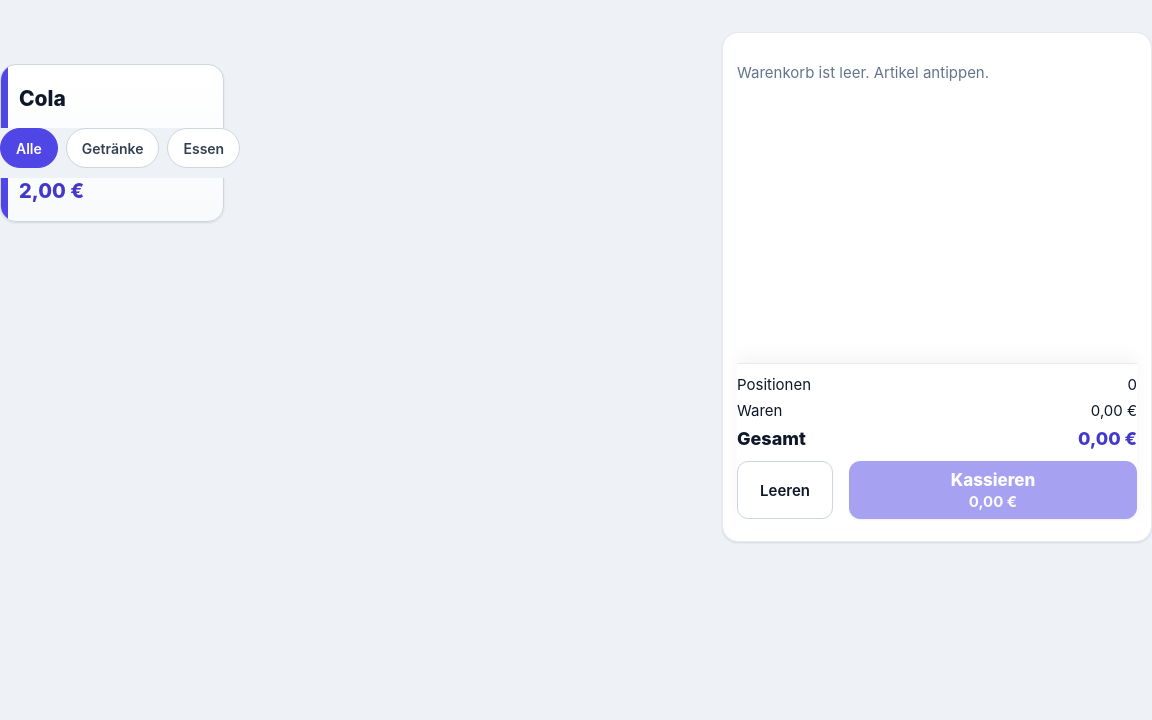
Test: Verkauf Component › sollte die Pfandrückgabe im Checkout-Modal korrekt durchlaufen
The image size is (1152, 720).
Click the text "Cola".
click(42, 98)  # box [19,86,66,111]
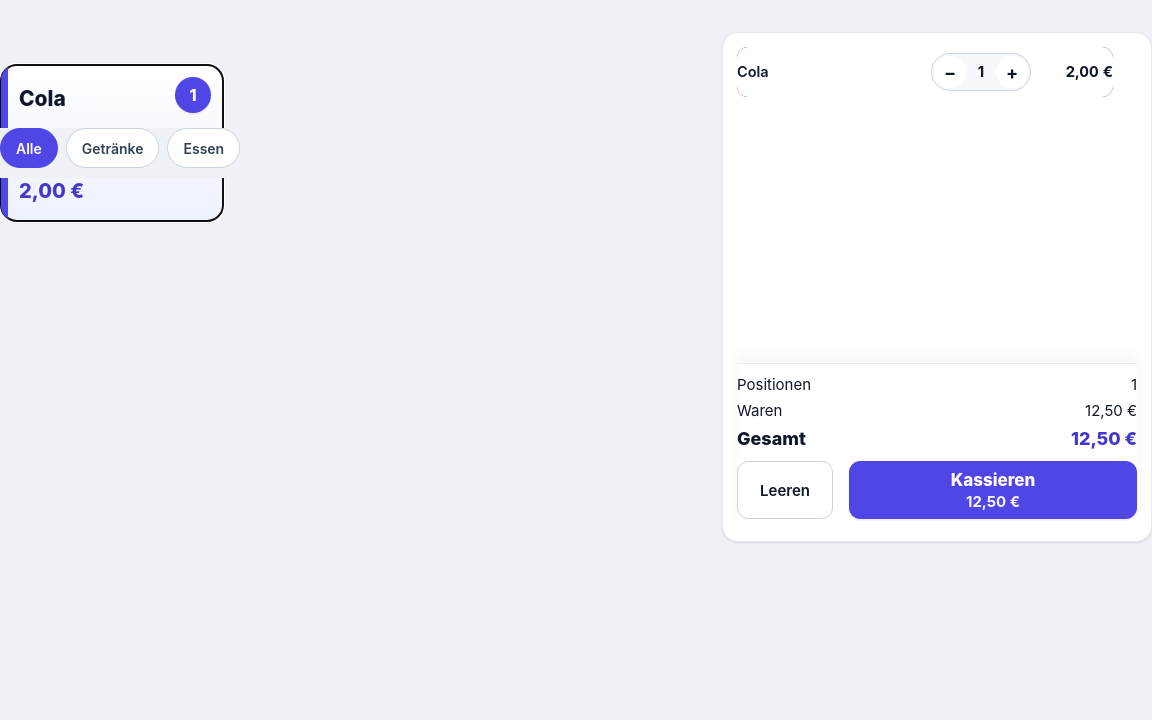
Click the button "Kassieren 12,50 €".
click(993, 490)  # box [849,461,1137,519]
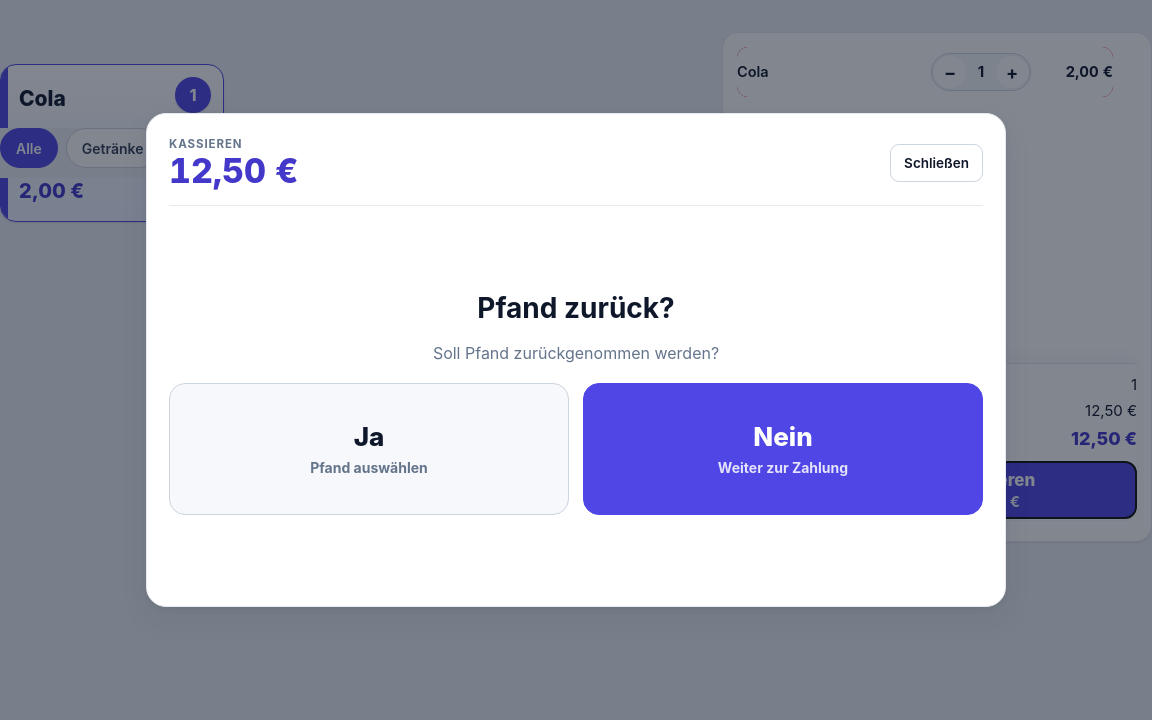
Click the button "Ja Pfand auswählen".
click(369, 449)  # box [169,383,569,515]
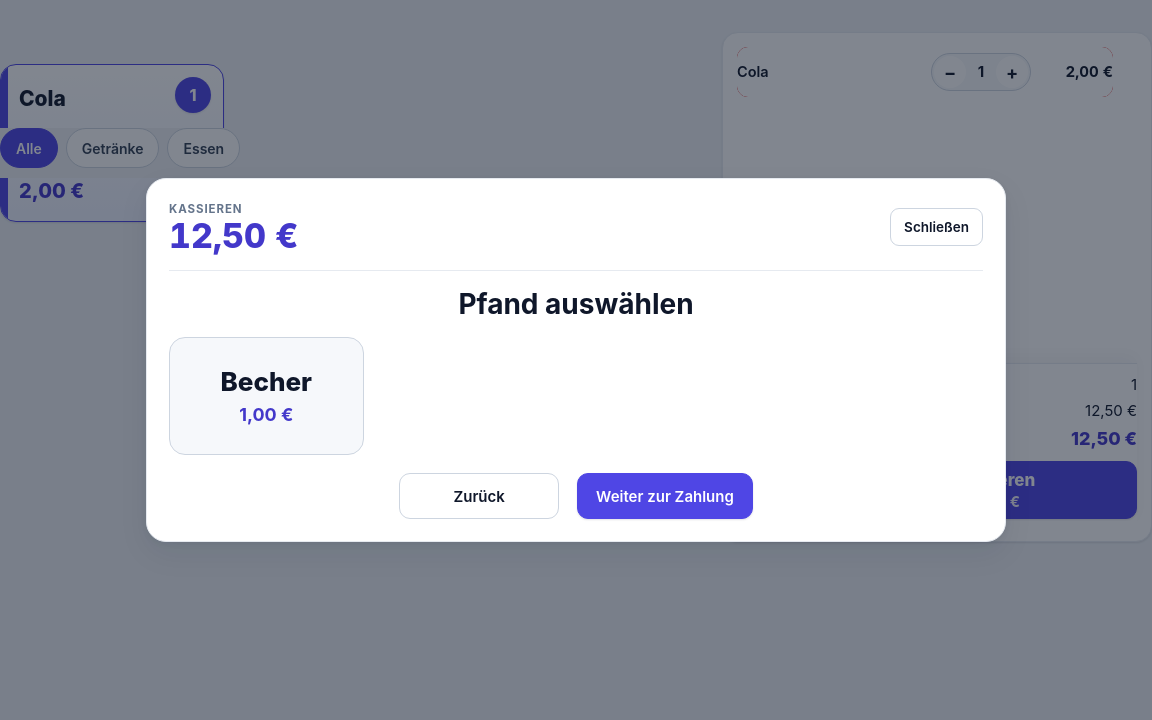
Click the button "Becher 1,00 €".
click(266, 396)  # box [169,337,364,455]
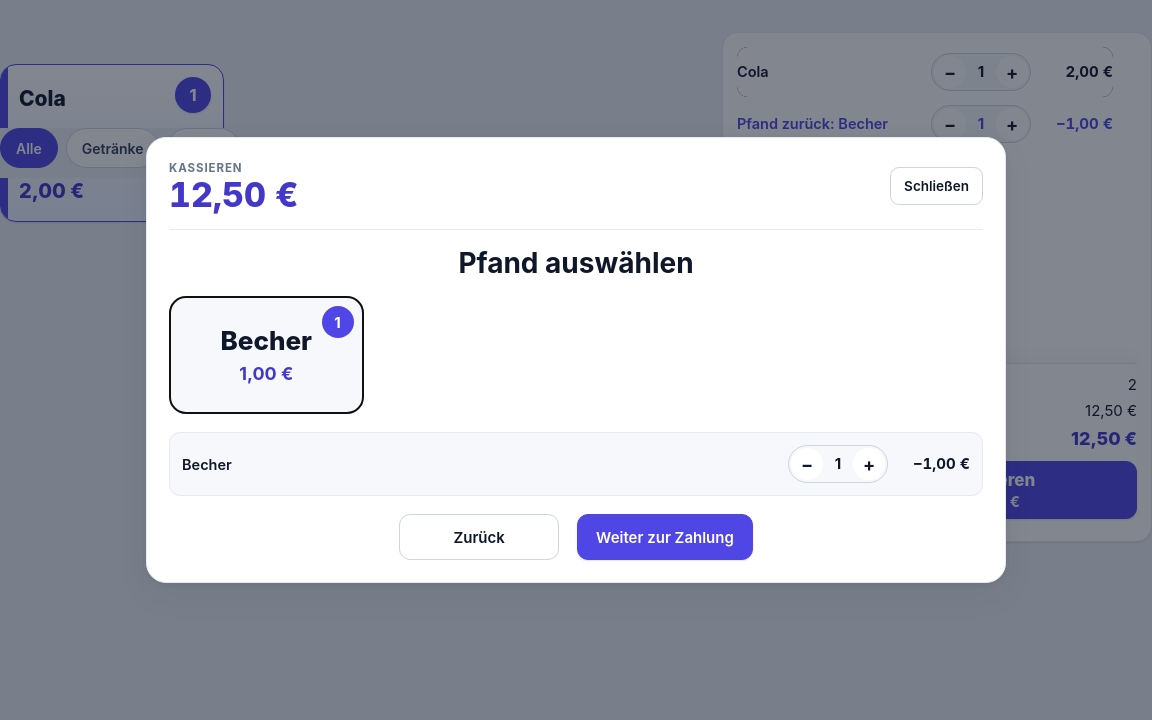
Click the button "Weiter zur Zahlung".
click(665, 537)  # box [577,514,753,560]
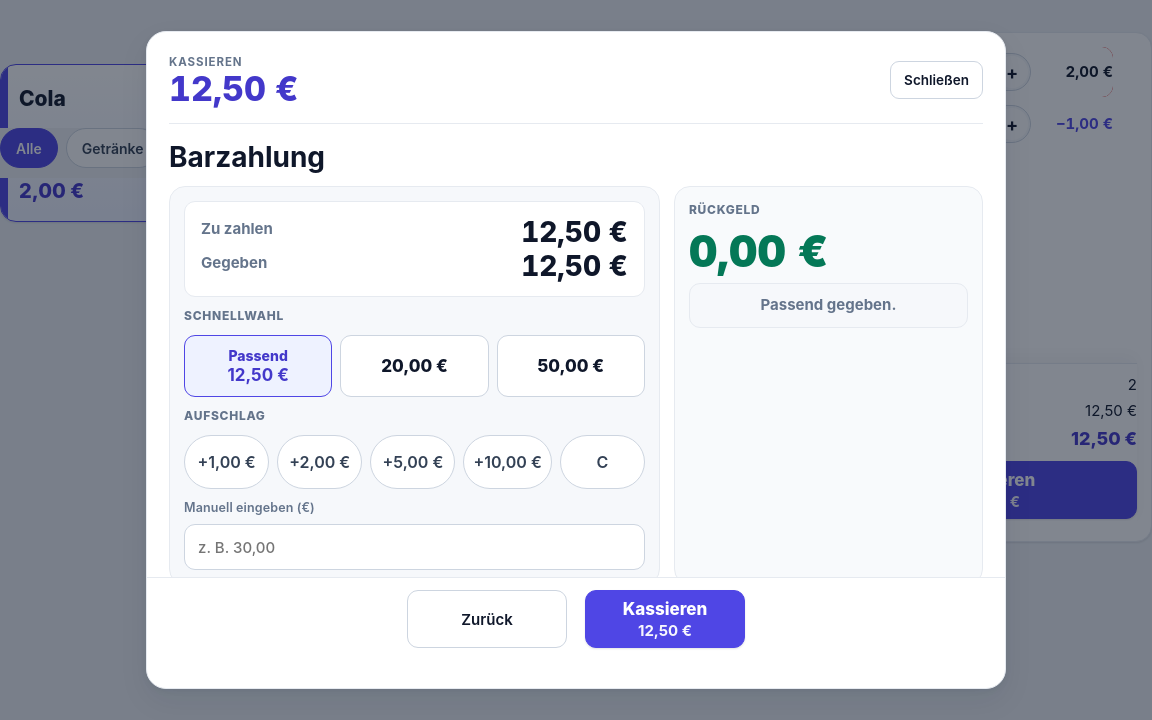
Now the heading "Barzahlung" is shown, box [169,142,325,172]
